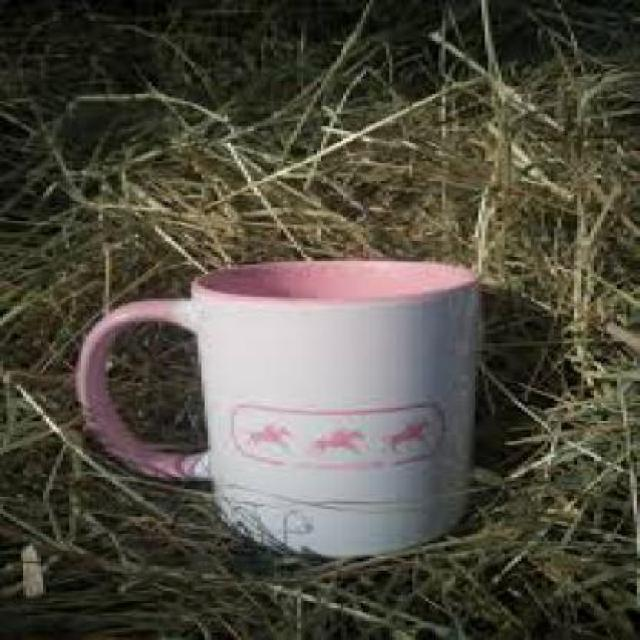cup: (60, 249, 505, 561)
